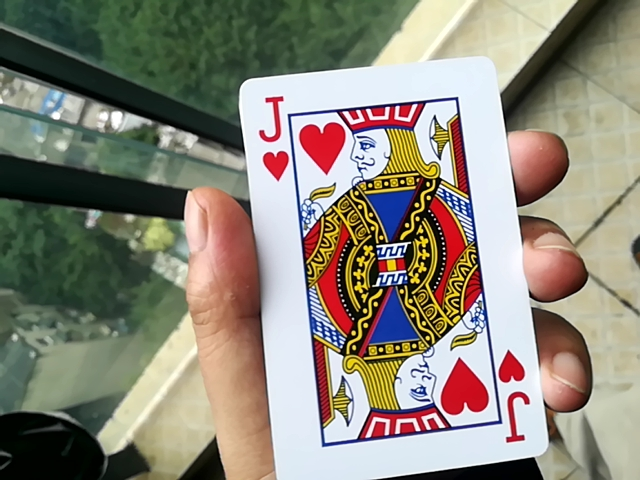hx j: (227, 51, 539, 480)
